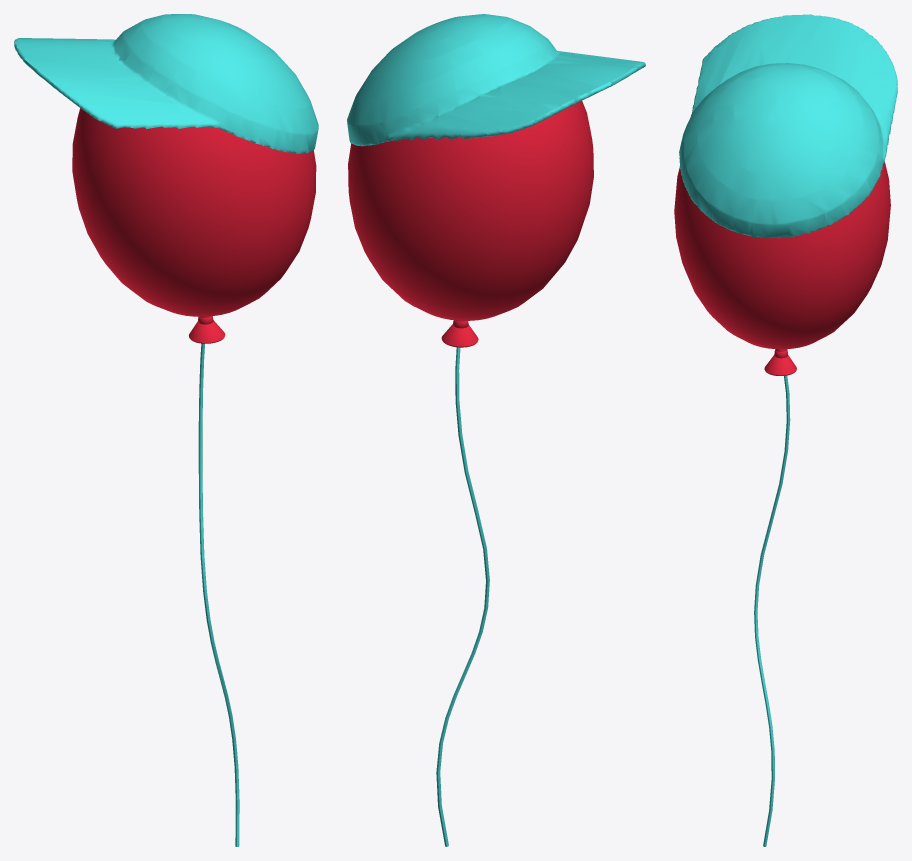
The picture shows the model from 3 angles, left to right: view 1: azimuth 30°, elevation 25°; view 2: azimuth 150°, elevation 25°; view 3: azimuth 270°, elevation 25°; orthographic projection. The views are drawn at different scales.
Parts seen in each view (by area): view 1: Object_3.001, split_parent_0; view 2: Object_3.001, split_parent_0; view 3: split_parent_0, Object_3.001.
Boxes of the visible parts, box(x1,y1,x2,y2) form: Object_3.001: box(72, 108, 316, 343); split_parent_0: box(14, 14, 318, 846); Object_3.001: box(348, 101, 593, 347); split_parent_0: box(347, 14, 645, 846); split_parent_0: box(679, 14, 897, 846); Object_3.001: box(674, 161, 890, 375).
Bounding box in the file's own units: 0.335 × 1 × 0.2679.
